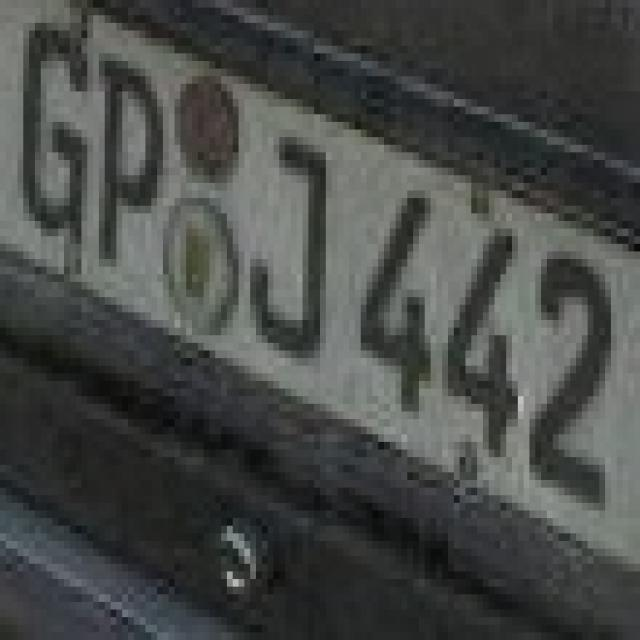2: (524, 160, 622, 534)
4: (348, 83, 436, 450), (448, 160, 524, 450)
G: (5, 0, 93, 251)
P: (87, 8, 163, 304)
